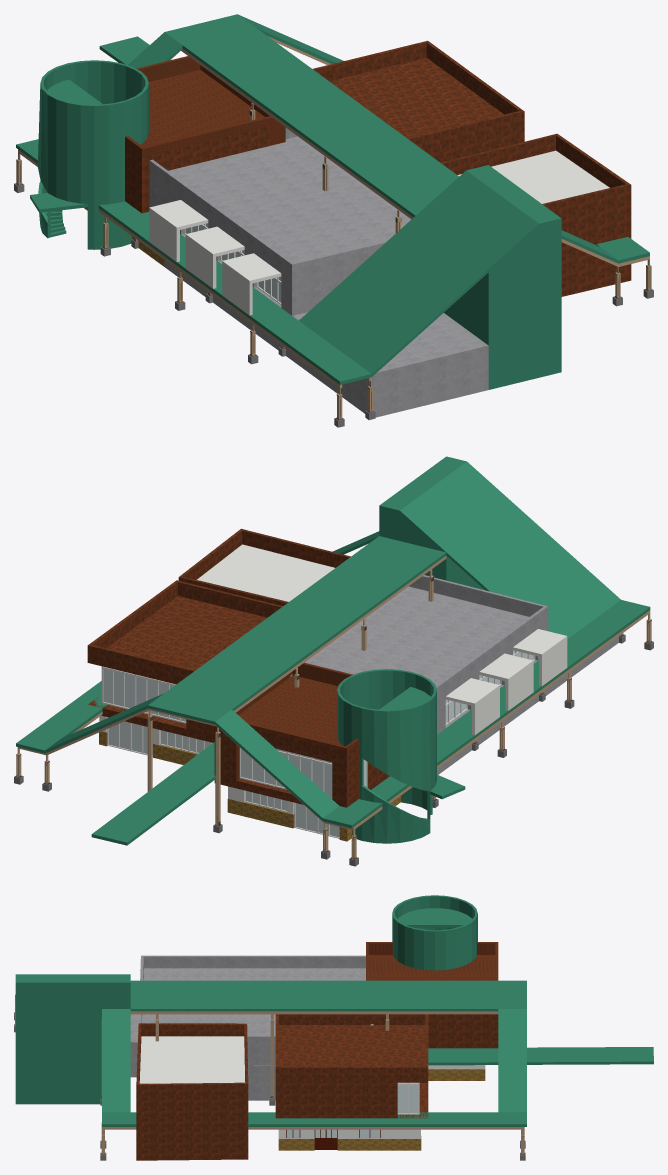
File: architecture.glb
3 views of the same model, one above another, from view 1: azimuth 30°, elevation 25°; view 2: azimuth 150°, elevation 25°; view 3: azimuth 270°, elevation 25° (orthographic). The views are drawn at different scales.
Parts seen in each view (by area): view 1: Architecture model; view 2: Architecture model; view 3: Architecture model.
Part boxes in pixels (left/top/right/bottom): Architecture model: left=14, top=14, right=653, bottom=427; Architecture model: left=14, top=456, right=653, bottom=866; Architecture model: left=14, top=895, right=653, bottom=1160.
Bounding box in the file's own units: 26.46 × 9.32 × 44.47.
Materials: 12 (6 with a texture image).
